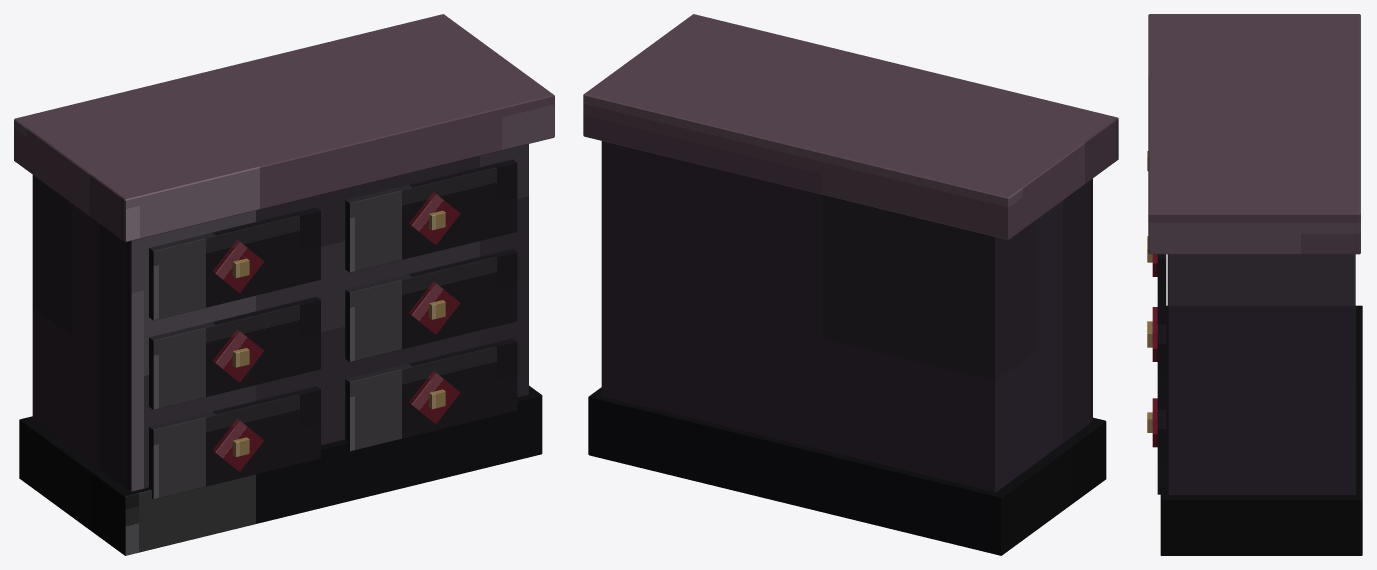
File: gothic_dresser_crimson.glb
The picture shows the model from 3 angles, left to right: view 1: azimuth 30°, elevation 25°; view 2: azimuth 150°, elevation 25°; view 3: azimuth 270°, elevation 25°; orthographic projection. The views are drawn at different scales.
Visible parts, largest first — view 1: DresserTop, DresserBody, DresserPlinth, Drawer_0_1, Drawer_1_1, Drawer_2_1, Drawer_1_0, Drawer_0_0, Drawer_2_0, DrawerDiamond_0_1, DrawerDiamond_1_1, DrawerDiamond_0_0 (+3 smaller); view 2: DresserBody, DresserTop, DresserPlinth; view 3: DresserTop, DresserBody, DresserPlinth, Drawer_1_1, Drawer_2_1, Drawer_0_1, DrawerDiamond_2_1, DrawerDiamond_1_1.
Boxes of the visible parts, bbox=[...] form: DresserTop: bbox=[14, 14, 554, 242]; DresserBody: bbox=[32, 144, 528, 491]; DresserPlinth: bbox=[19, 385, 542, 555]; Drawer_0_1: bbox=[345, 159, 517, 272]; Drawer_1_1: bbox=[345, 249, 517, 361]; Drawer_2_1: bbox=[345, 338, 517, 451]; Drawer_1_0: bbox=[149, 296, 320, 409]; Drawer_0_0: bbox=[149, 207, 320, 320]; Drawer_2_0: bbox=[149, 386, 320, 499]; DrawerDiamond_0_1: bbox=[409, 192, 460, 244]; DrawerDiamond_1_1: bbox=[409, 281, 460, 334]; DrawerDiamond_0_0: bbox=[213, 240, 264, 292]; DresserBody: bbox=[601, 141, 1092, 491]; DresserTop: bbox=[583, 14, 1118, 239]; DresserPlinth: bbox=[588, 387, 1106, 555]; DresserTop: bbox=[1148, 14, 1360, 254]; DresserBody: bbox=[1167, 254, 1355, 494]; DresserPlinth: bbox=[1160, 305, 1362, 555]; Drawer_1_1: bbox=[1157, 324, 1166, 409]; Drawer_2_1: bbox=[1157, 409, 1166, 494]; Drawer_0_1: bbox=[1157, 254, 1166, 324]; DrawerDiamond_2_1: bbox=[1152, 398, 1157, 447]; DrawerDiamond_1_1: bbox=[1152, 313, 1157, 361].
Bounding box in the file's own units: 1.36 × 1.09 × 0.618.
Materials: 1 (1 with a texture image).
